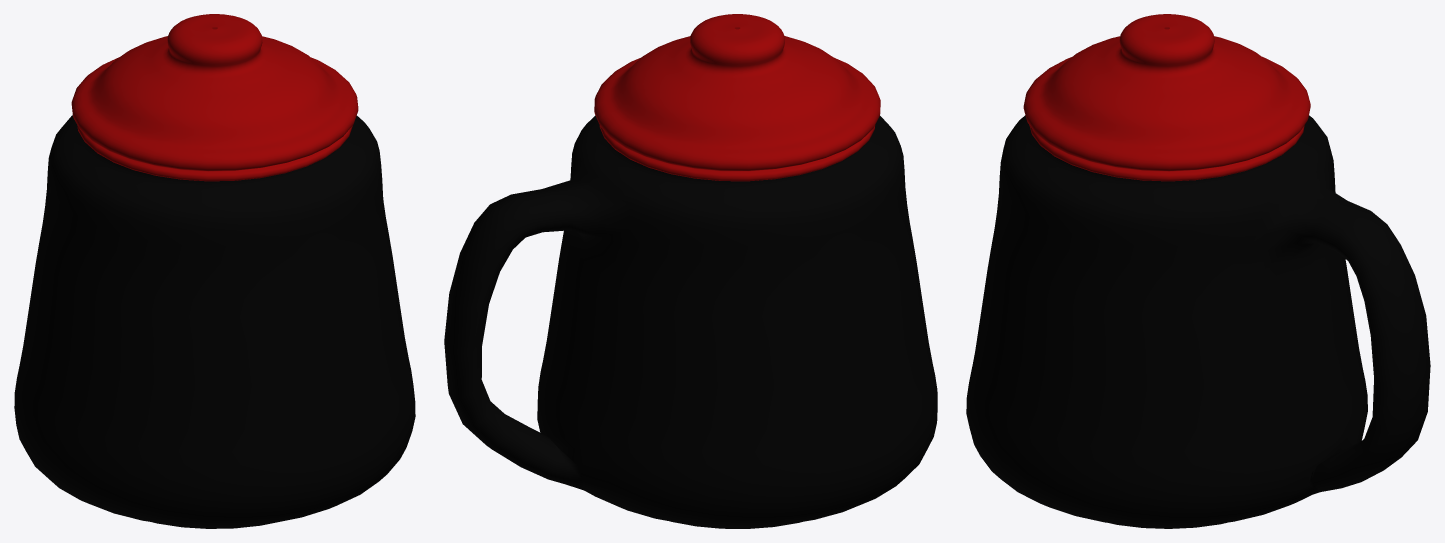
Rendered from Tea.FBX.
3 renders of one model, left to right at view 1: azimuth 30°, elevation 25°; view 2: azimuth 150°, elevation 25°; view 3: azimuth 270°, elevation 25°, orthographic.
Parts seen in each view (by area): view 1: Line011; view 2: Line011; view 3: Line011.
Part boxes in pixels (left/top/right/bottom): Line011: left=14, top=14, right=415, bottom=528; Line011: left=444, top=14, right=937, bottom=528; Line011: left=966, top=14, right=1430, bottom=528.
Bounding box in the file's own units: 9.28 × 11.53 × 10.55.
